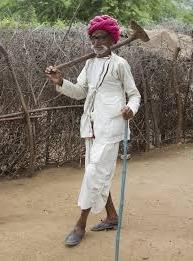Human: (43, 9, 142, 250)
